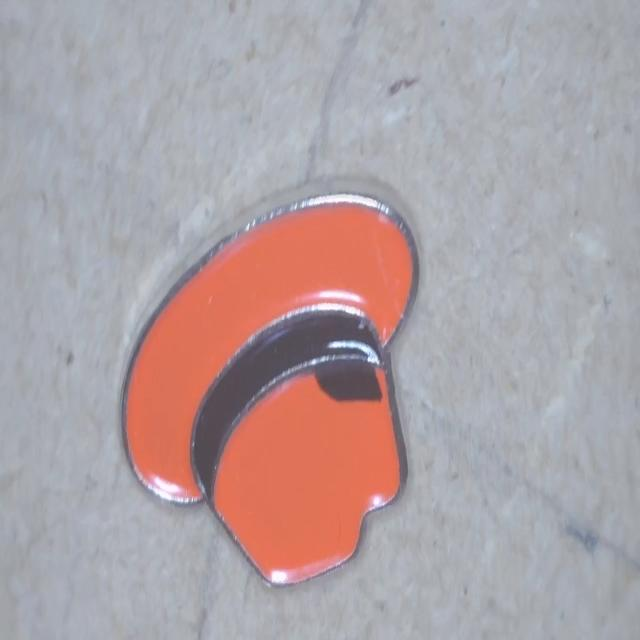Hatband: (190, 309, 380, 502)
Paint_Leak: (314, 360, 380, 400)
RedHatPin: (122, 198, 416, 582)
